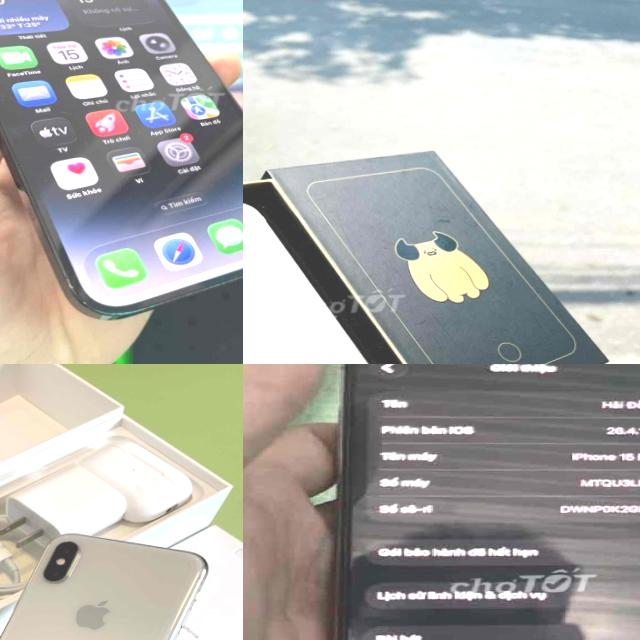gen_12_13: (243, 203, 367, 364)
gen_14: (0, 0, 243, 321)
gen_15: (311, 364, 640, 640)
gen_x_xs: (0, 533, 207, 640)
